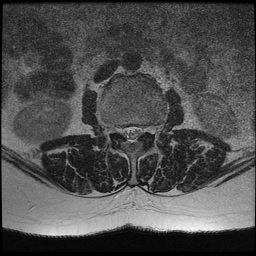CCS_normal: (129, 120, 135, 148)
LFS_stenosis: (143, 121, 150, 140)
LLS_normal: (135, 122, 142, 142)
RFS_stenosis: (115, 121, 122, 141)
RLS_normal: (121, 121, 129, 143)
